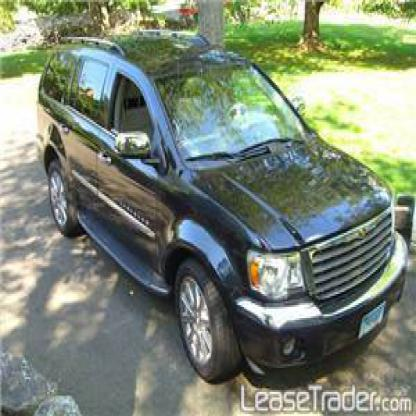Vehicle: (37, 32, 412, 386)
